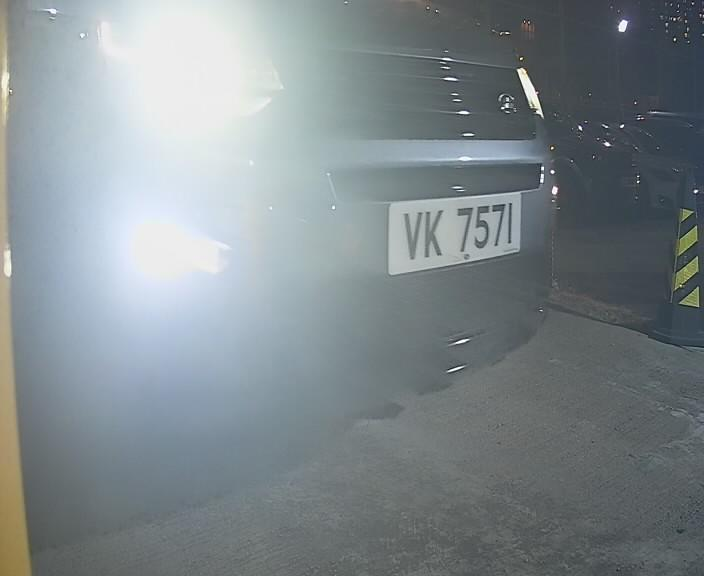Car: (13, 11, 642, 443)
License Plate: (375, 180, 522, 281)
